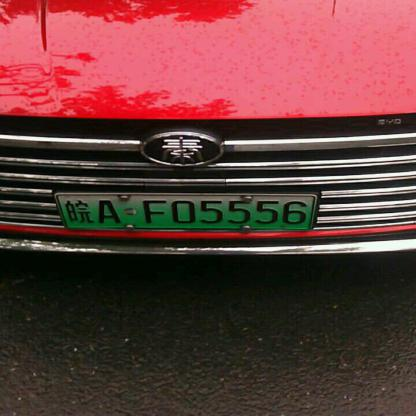lp: (55, 194, 66, 229)
